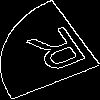R: (25, 25, 97, 82)
